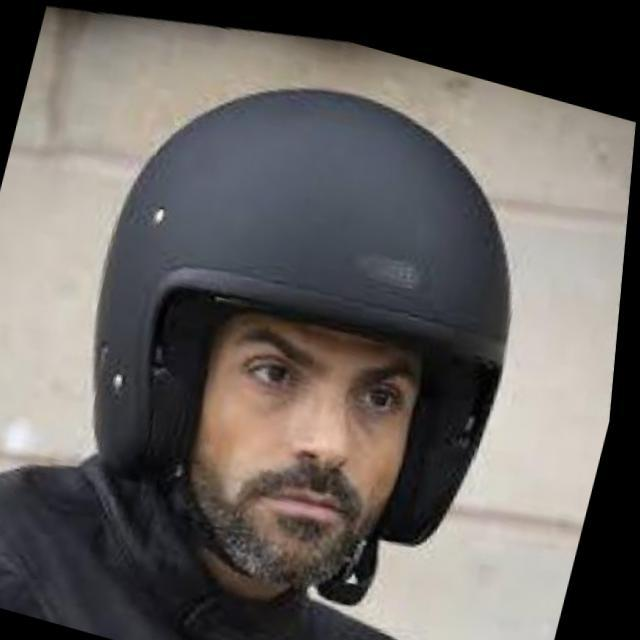Helmet: (85, 83, 518, 595)
